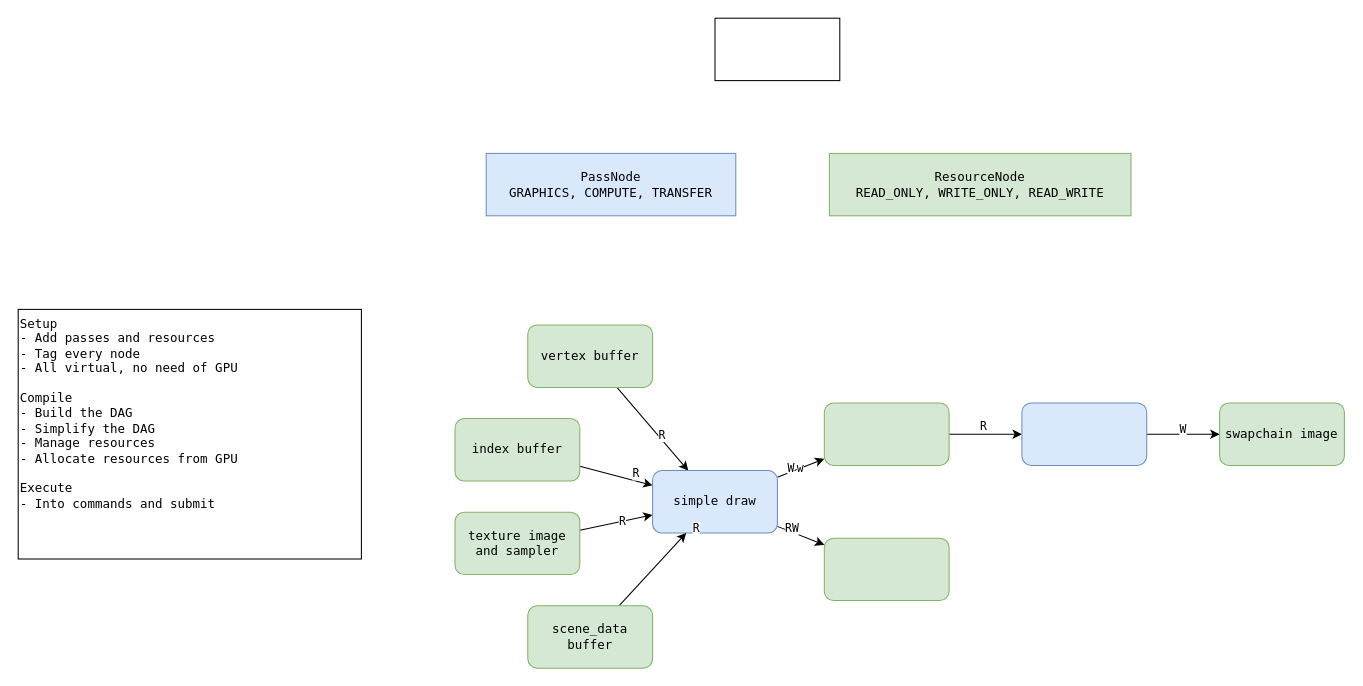
Image size: 1363x686. Some labels were removed from this diagram. Here are the shapes that lost their labels. From the top down, the centre of each, then its label:
point 777,49: RenderGraph
point 886,433: color image
point 1084,433: image copy
point 886,569: depth image
